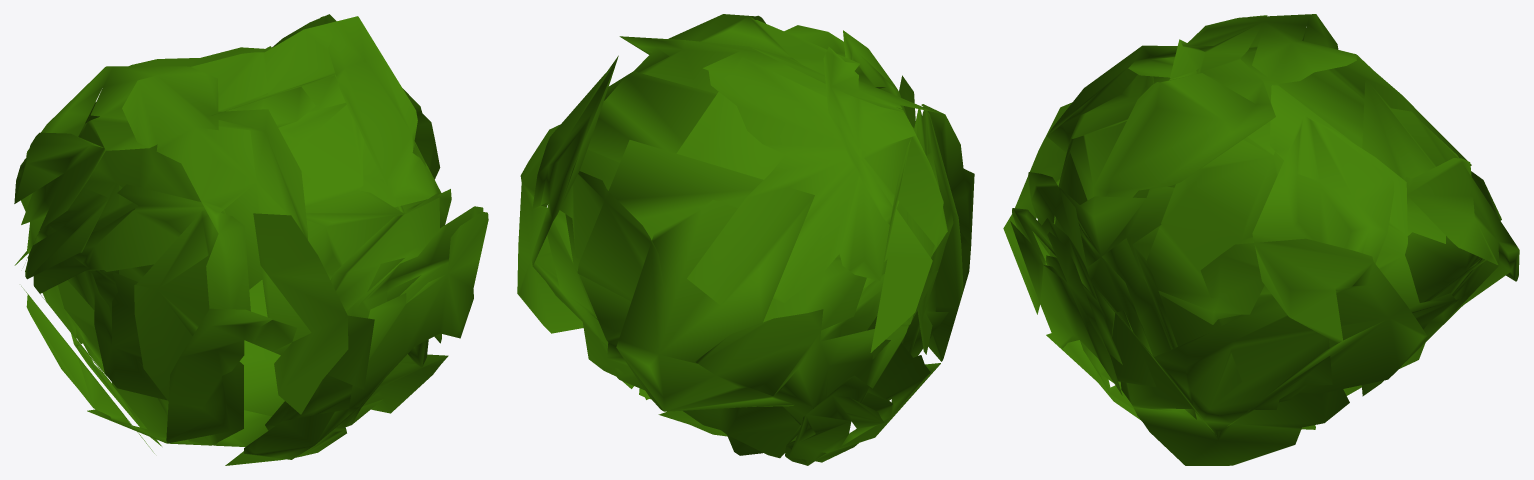
File: Bush.04.fbx
3 renders of one model, left to right at view 1: azimuth 30°, elevation 25°; view 2: azimuth 150°, elevation 25°; view 3: azimuth 270°, elevation 25°, orthographic.
Parts seen in each view (by area): view 1: null2; view 2: null2; view 3: null2.
Boxes of the visible parts, left/top/right/bottom form: null2: left=14, top=14, right=488, bottom=465; null2: left=517, top=14, right=974, bottom=465; null2: left=1003, top=14, right=1519, bottom=465.
Bounding box in the file's own units: 1.64 × 1.58 × 1.92.
